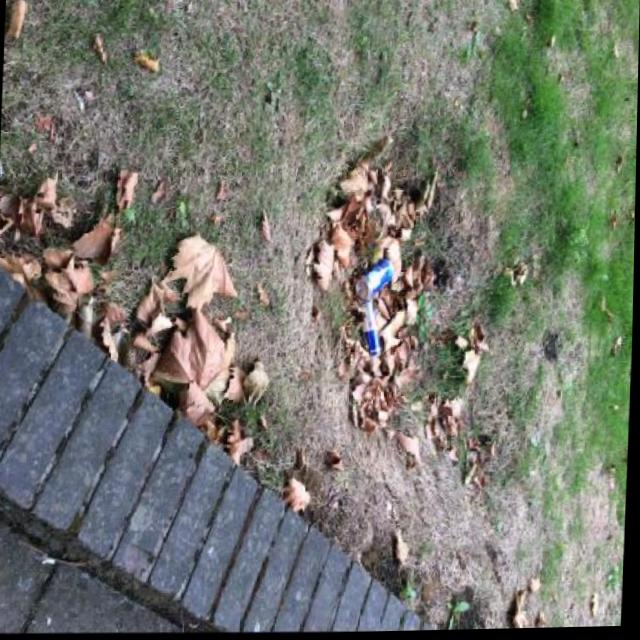metal: (356, 259, 395, 303), (355, 300, 383, 360)
